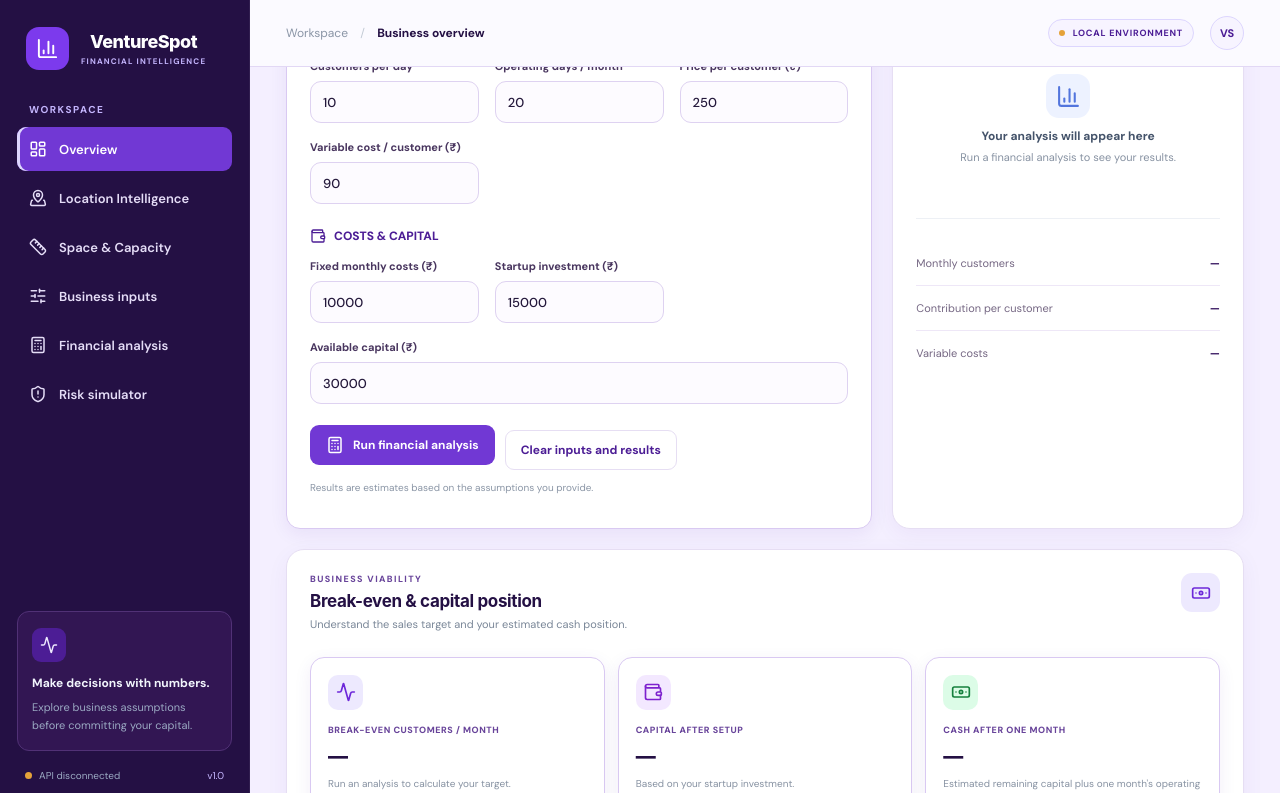
Test: VentureSpot dashboard › displays financial analysis returned by the API
This screenshot has width=1280, height=793.
(page scrolled)
Click the button "Run financial analysis" at (402, 445), box [310,425,495,465]
(page scrolled)
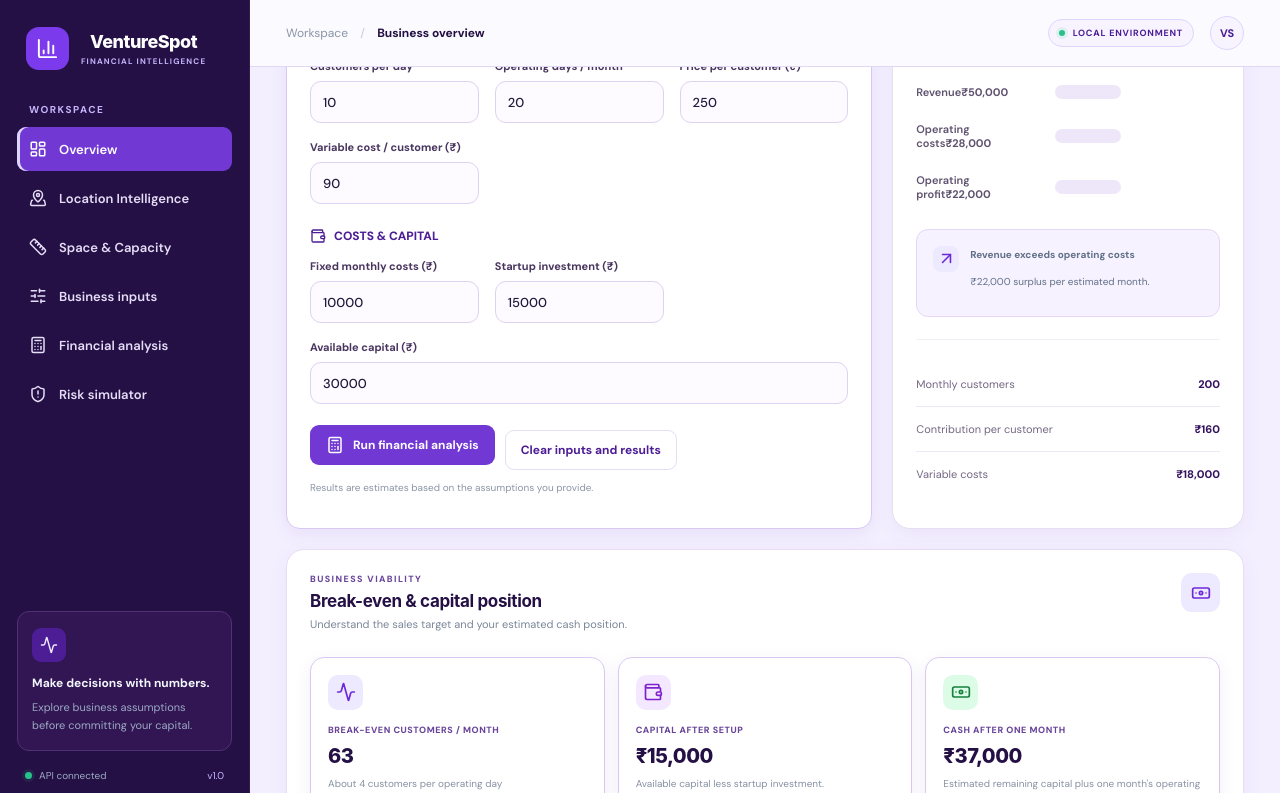
Check: the text "63" is shown, box [328,744,353,768]
